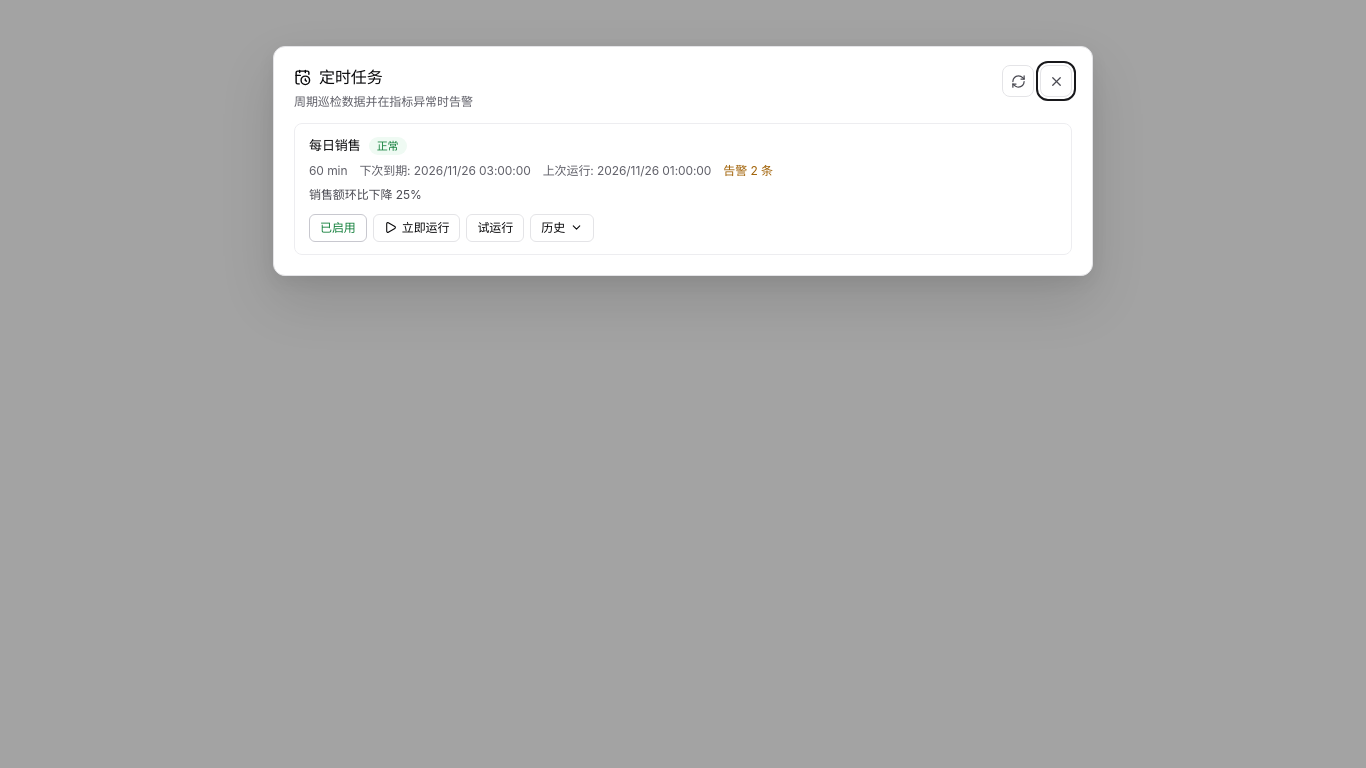
SchedulePanel › 试运行发 dry_run 请求且不刷新列表
The image size is (1366, 768).
Expected: the text "每日销售" is shown, top-left (309, 136), bottom-right (361, 156)
Click the button "试运行" at (495, 228), box top-left (466, 214), bottom-right (524, 242)
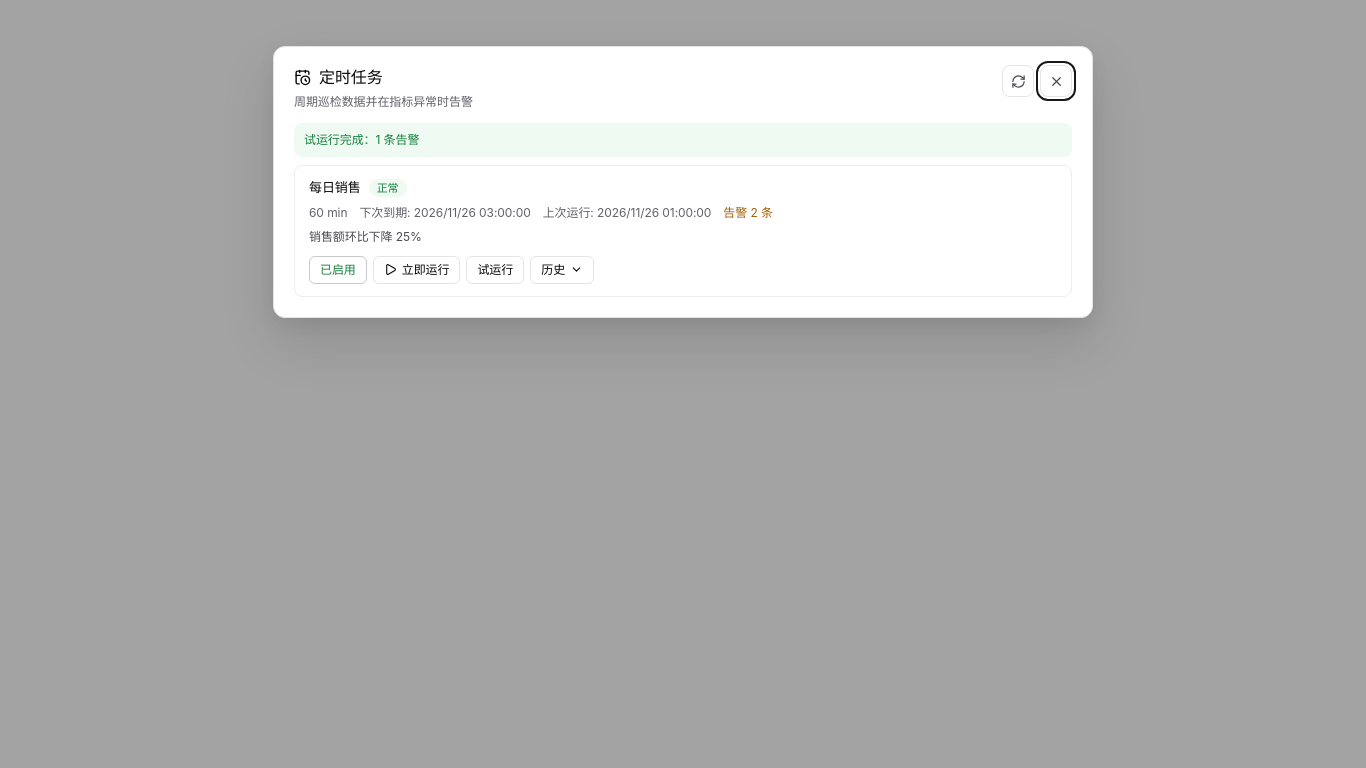
Expected: the text "试运行完成：1 条告警" is shown, top-left (294, 123), bottom-right (1072, 157)
